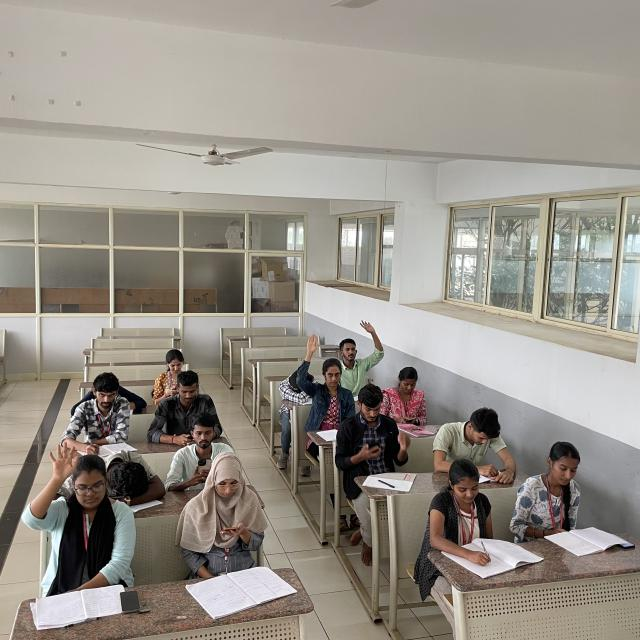Hand Rising: (23, 440, 126, 581), (299, 332, 356, 423), (338, 321, 383, 388)
Reading: (526, 441, 624, 556), (436, 409, 521, 486)
Sleeping: (101, 450, 164, 507), (279, 368, 315, 408)
Using Phone: (188, 456, 266, 552), (149, 369, 225, 444), (334, 388, 400, 472), (167, 424, 226, 495), (148, 346, 195, 404), (384, 368, 427, 424)
Writing: (429, 460, 523, 572), (67, 376, 142, 458)
